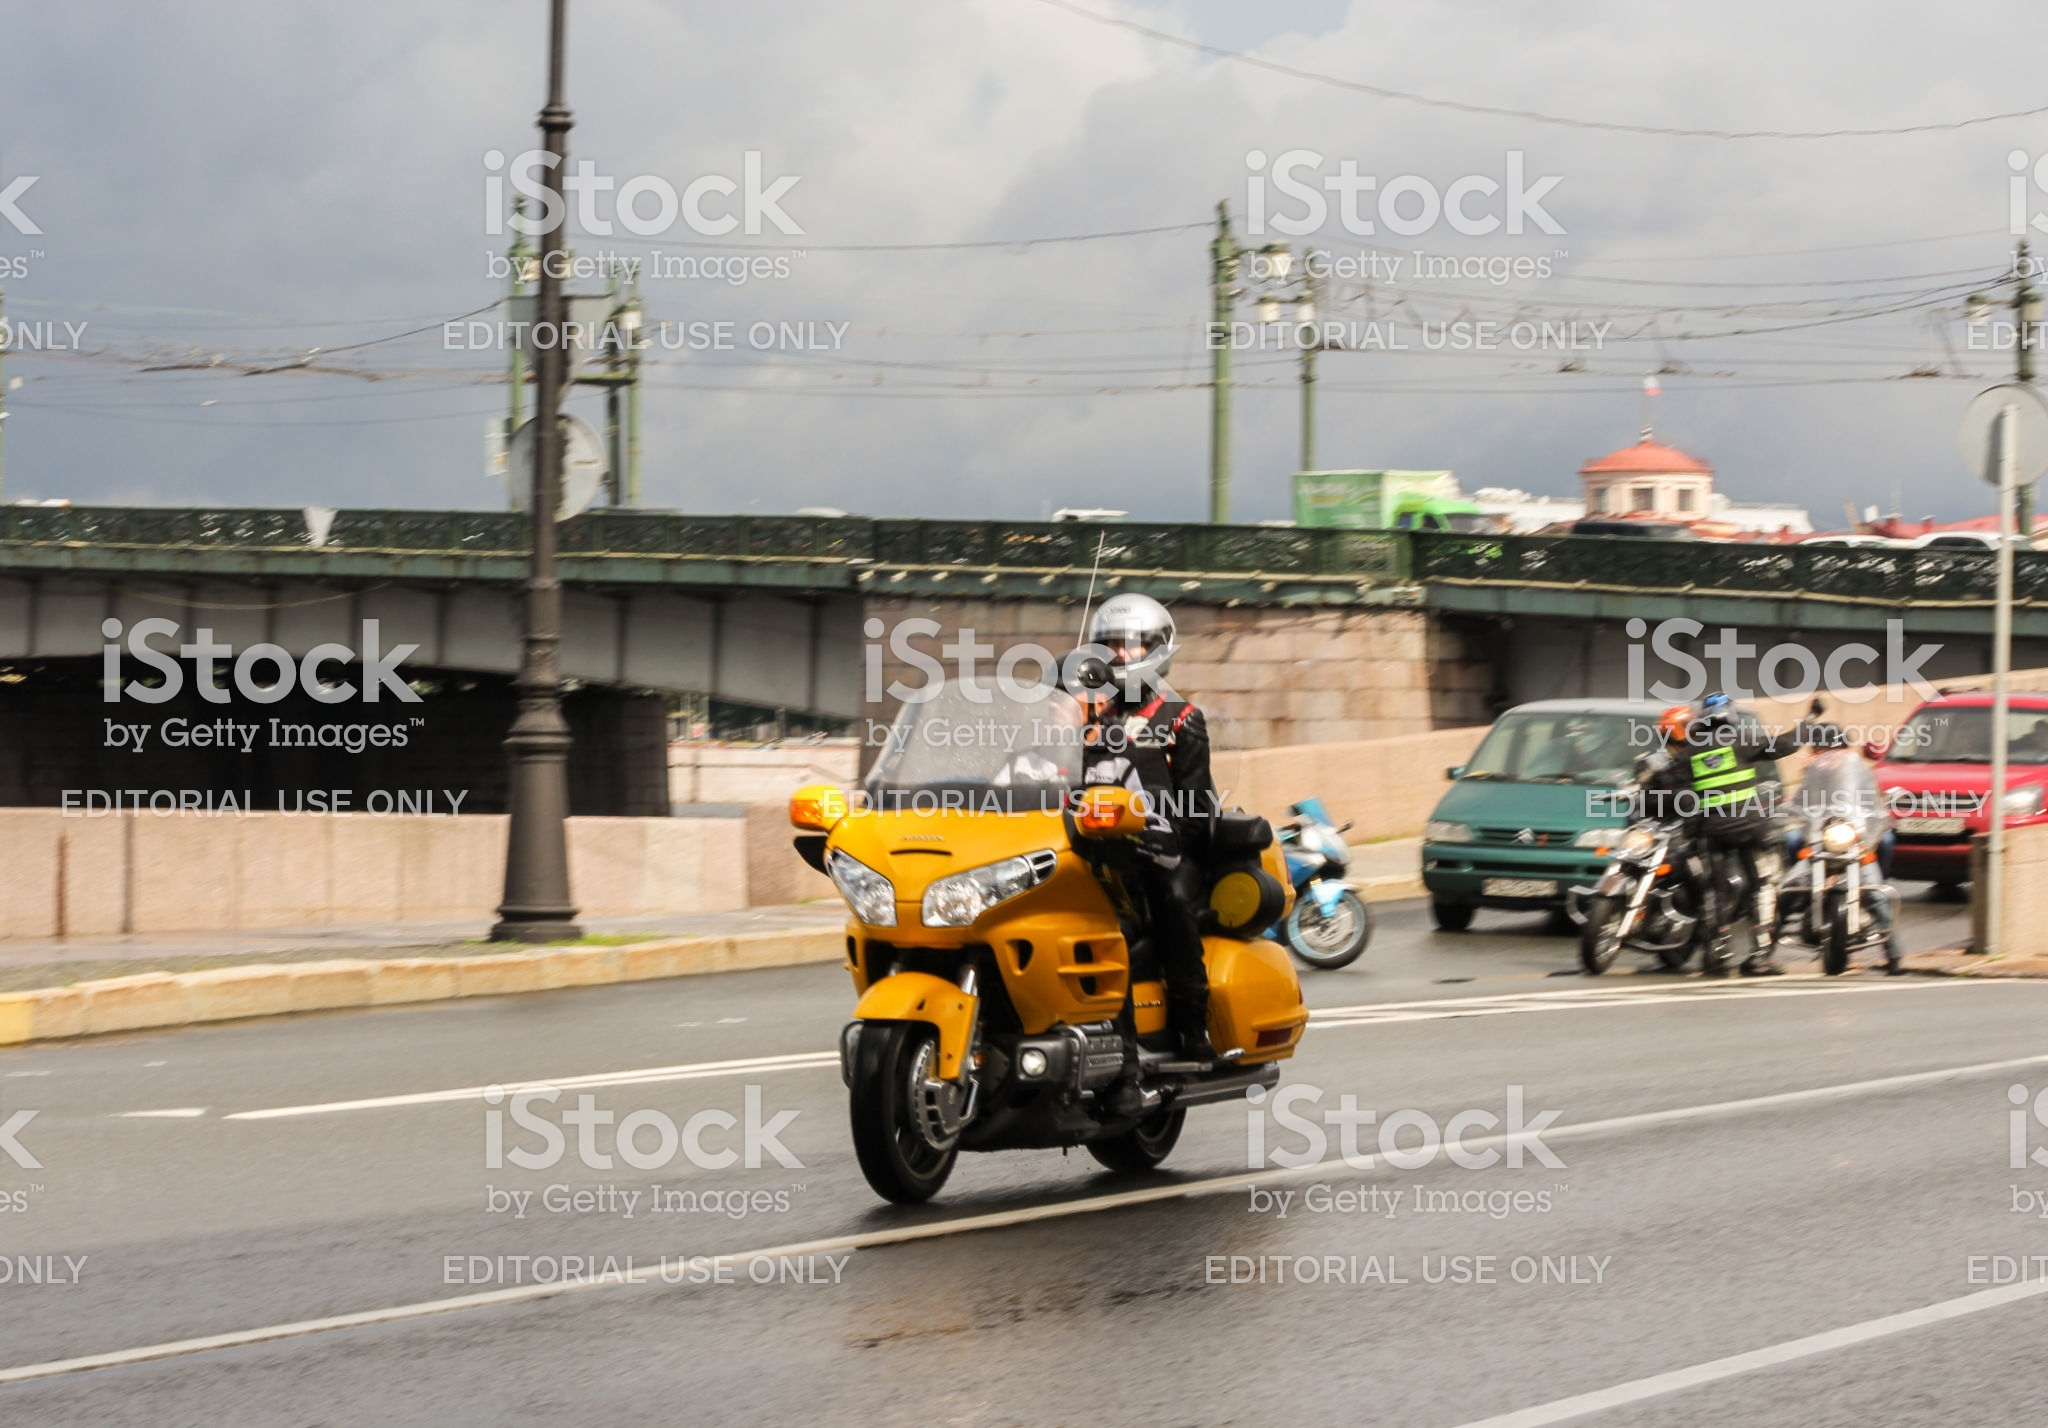helmet: (1092, 590, 1166, 688)
